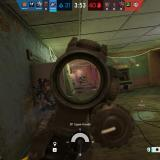Character: (79, 76, 83, 85)
Friend_label: (138, 100, 145, 106)
Head: (80, 76, 82, 78)
